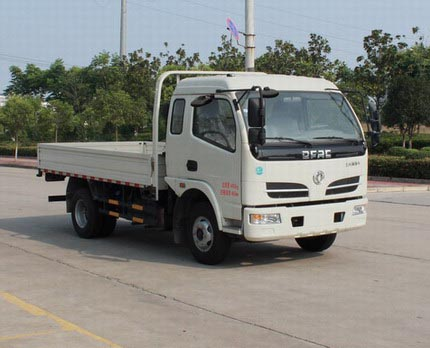smalltruck: (28, 41, 377, 268)
